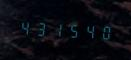five: (66, 20, 81, 40)
four: (17, 17, 32, 38), (82, 20, 97, 41)
one: (50, 19, 65, 39)
three: (33, 18, 48, 39)
zero: (98, 21, 113, 42)
